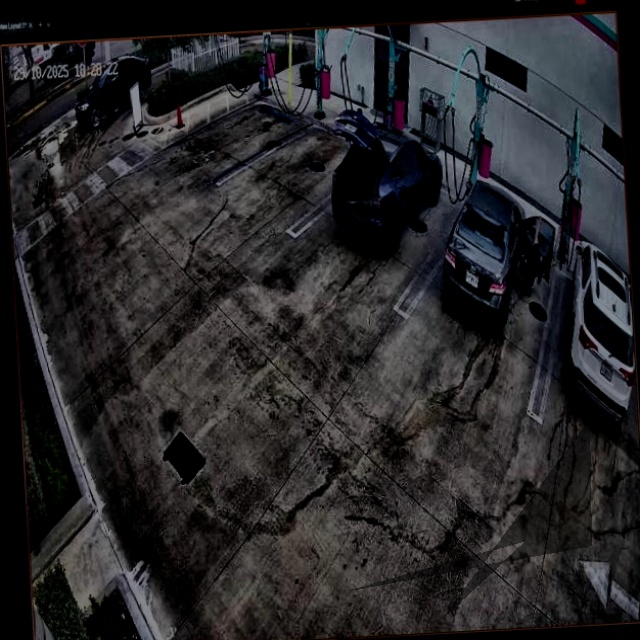Car: (439, 178, 558, 325), (327, 106, 446, 249)
